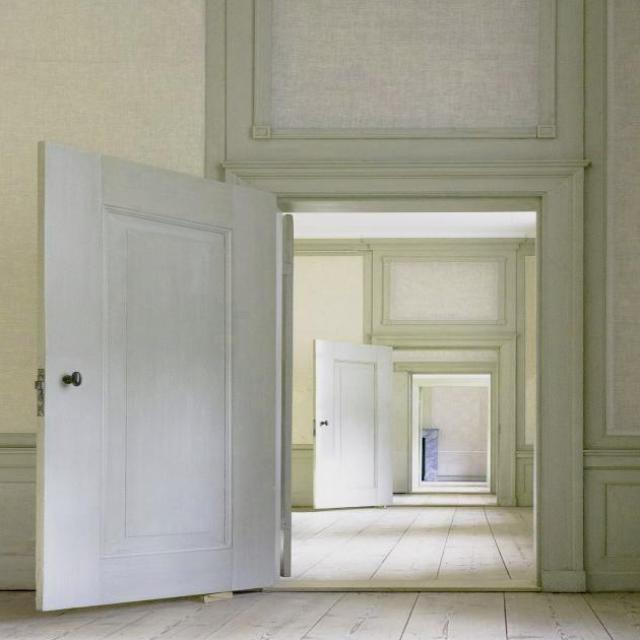door: (34, 139, 287, 611), (308, 327, 398, 514)
